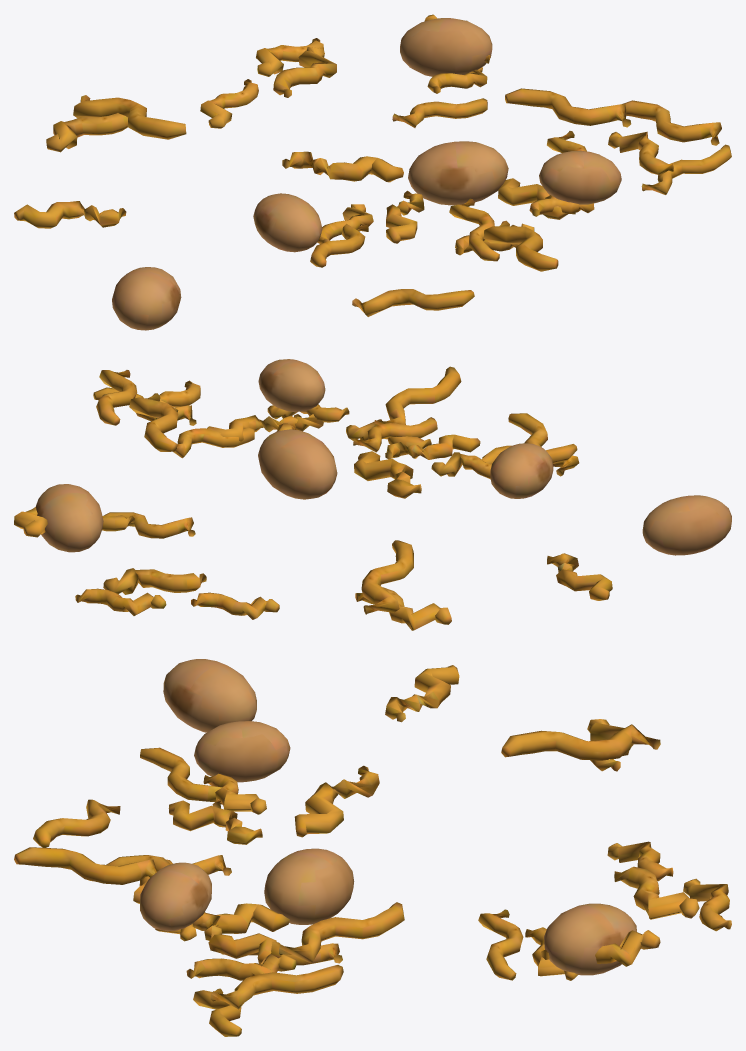
The model's file is crunch_namkeen.glb.
3 views of the same model, one above another, from view 1: azimuth 30°, elevation 25°; view 2: azimuth 150°, elevation 25°; view 3: azimuth 270°, elevation 25° (orthographic). The views are drawn at different scales.
Visible parts, largest first — view 1: EX_crunch_namkeen_joined; view 2: EX_crunch_namkeen_joined; view 3: EX_crunch_namkeen_joined.
Boxes of the visible parts, box(x1,y1,x2,y2) form: EX_crunch_namkeen_joined: box(14, 14, 731, 330); EX_crunch_namkeen_joined: box(14, 359, 731, 630); EX_crunch_namkeen_joined: box(14, 659, 731, 1036).
Bounding box in the file's own units: 0.0637 × 0.0077 × 0.0548.
Materials: 2 (2 with a texture image).
